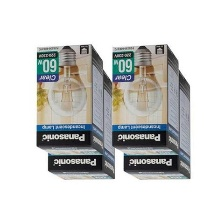carton: (33, 39, 108, 159), (121, 62, 195, 183), (43, 62, 117, 179), (110, 42, 183, 158)
